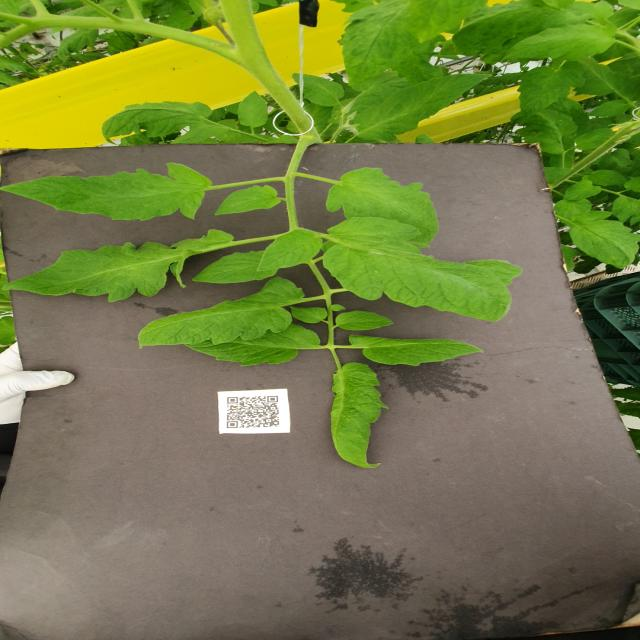Healthy Leaf: (322, 217, 528, 324), (10, 229, 236, 303), (2, 162, 213, 223), (134, 278, 307, 348), (357, 72, 495, 144), (325, 168, 442, 245), (325, 364, 388, 474), (552, 199, 640, 271), (347, 333, 488, 369), (102, 100, 213, 145), (504, 24, 620, 63), (517, 67, 587, 121), (190, 252, 280, 287), (258, 230, 324, 275), (216, 186, 286, 217), (292, 74, 346, 108), (337, 311, 396, 333), (238, 92, 273, 129), (564, 181, 602, 202), (587, 100, 631, 118), (290, 306, 329, 326)
